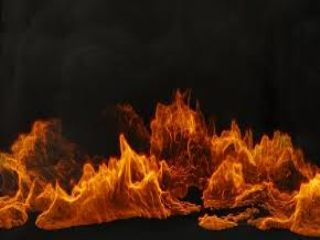fire: (6, 104, 316, 229)
